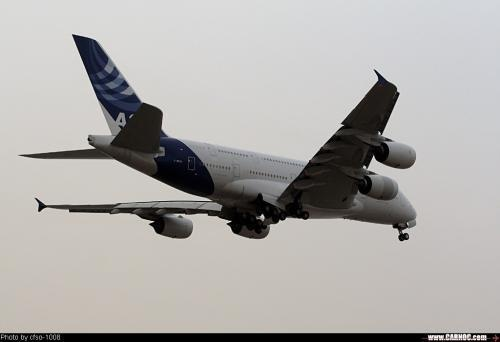airplane: (22, 36, 425, 243)
